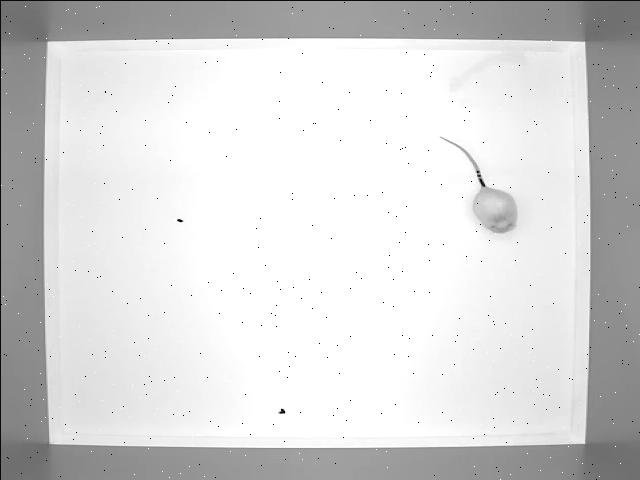Tikus: (434, 133, 521, 235)
